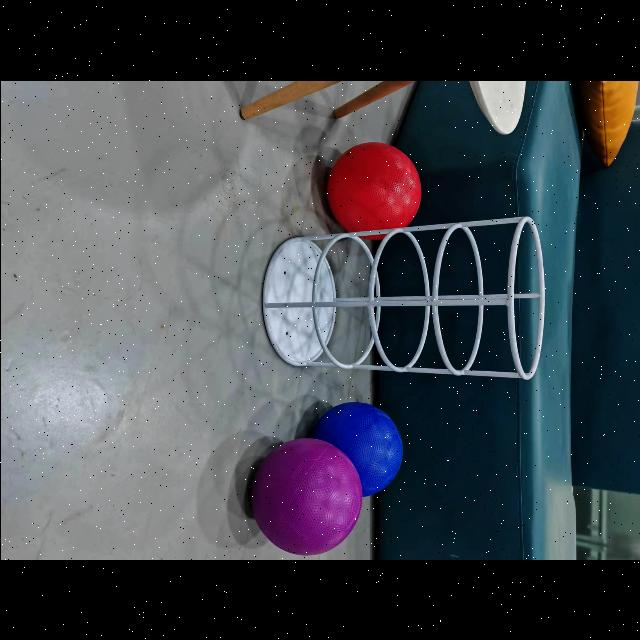B: (311, 402, 402, 496)
P: (251, 438, 362, 554)
R: (326, 141, 420, 231)
S: (262, 215, 544, 380)
